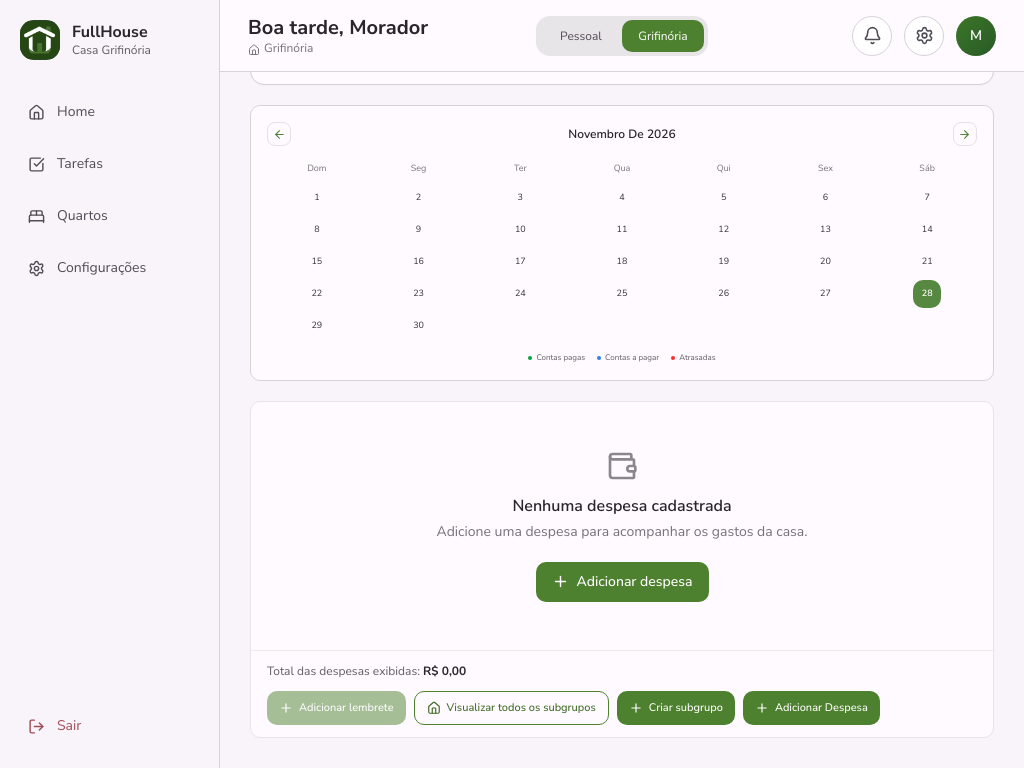
Test: FinancePage expense CRUD › creates a subgroup from active residents and updates the expense options immediately
This screenshot has width=1024, height=768.
(page scrolled)
Expected: the heading "Nenhuma despesa cadastrada" is shown, left=512, top=494, right=732, bottom=516
Click the button "Criar subgrupo". click: (676, 708)
box: left=617, top=690, right=735, bottom=725
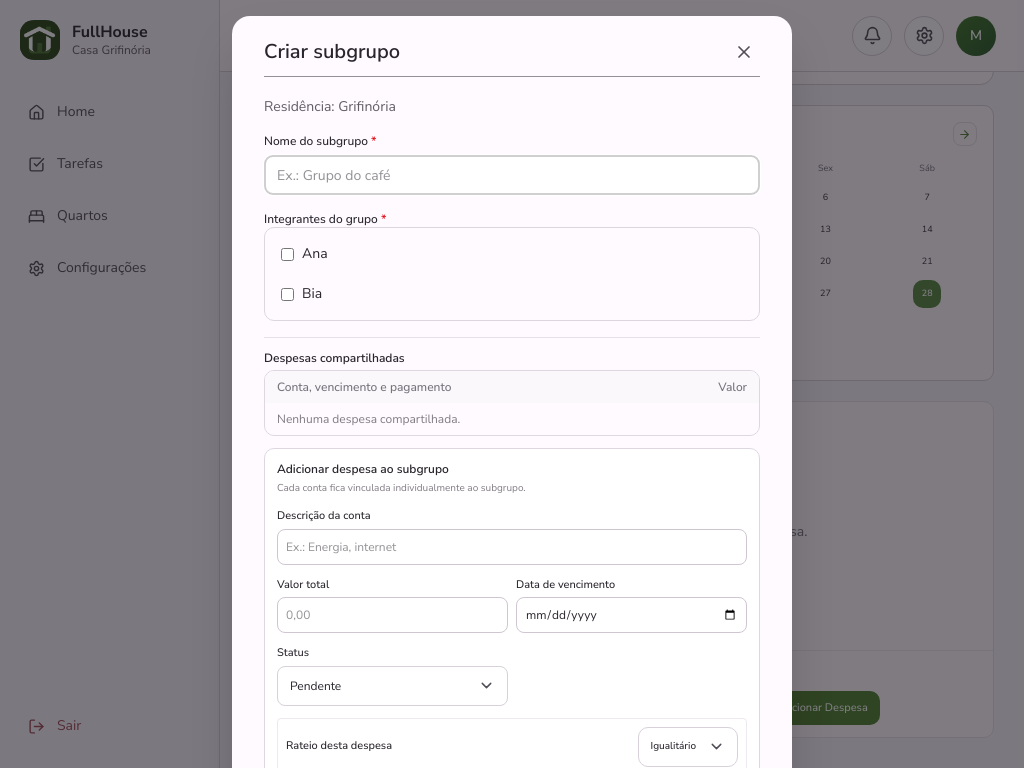
Type " Café " into the field labelled "Nome do subgrupo *". click: (512, 175)
box: left=264, top=155, right=760, bottom=195
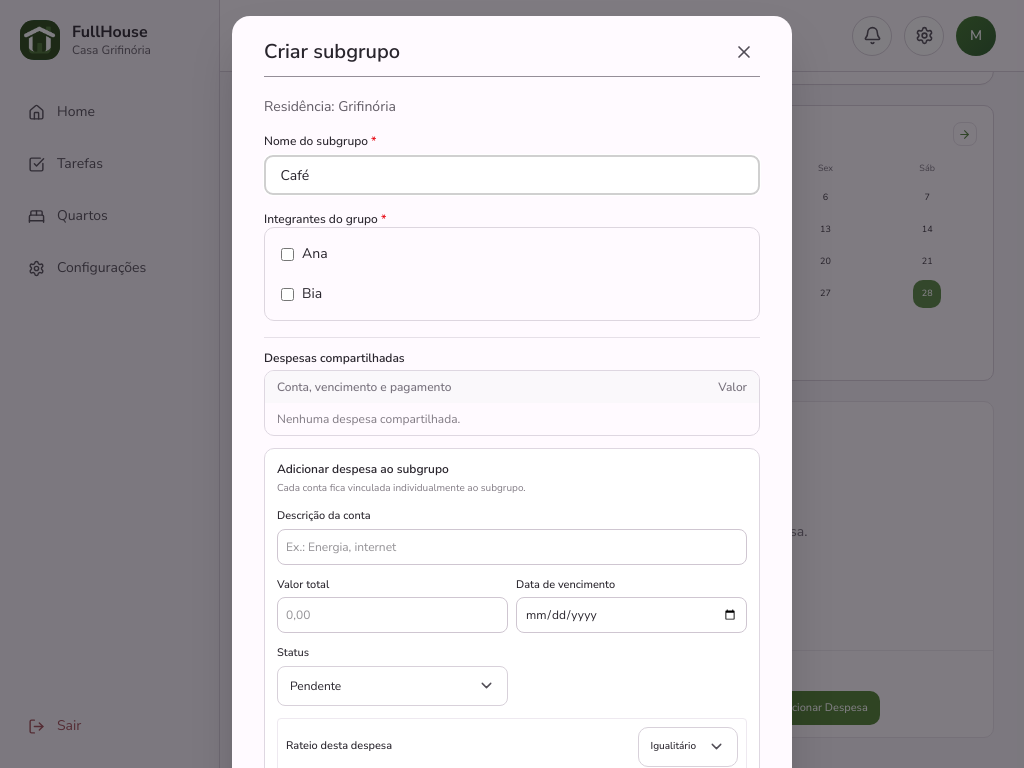
Click the checkbox labelled "Ana". click: (288, 254)
box: left=281, top=248, right=294, bottom=260
(page scrolled)
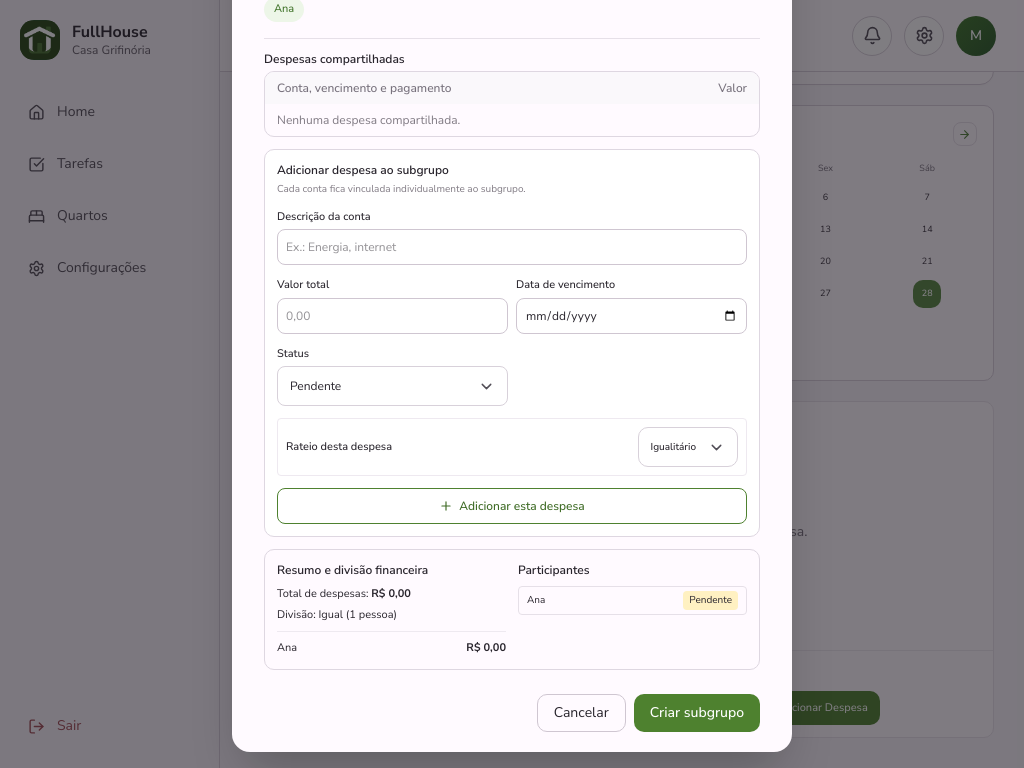
Click the button "Criar subgrupo". click: (697, 712)
box: left=634, top=694, right=760, bottom=732
(page scrolled)
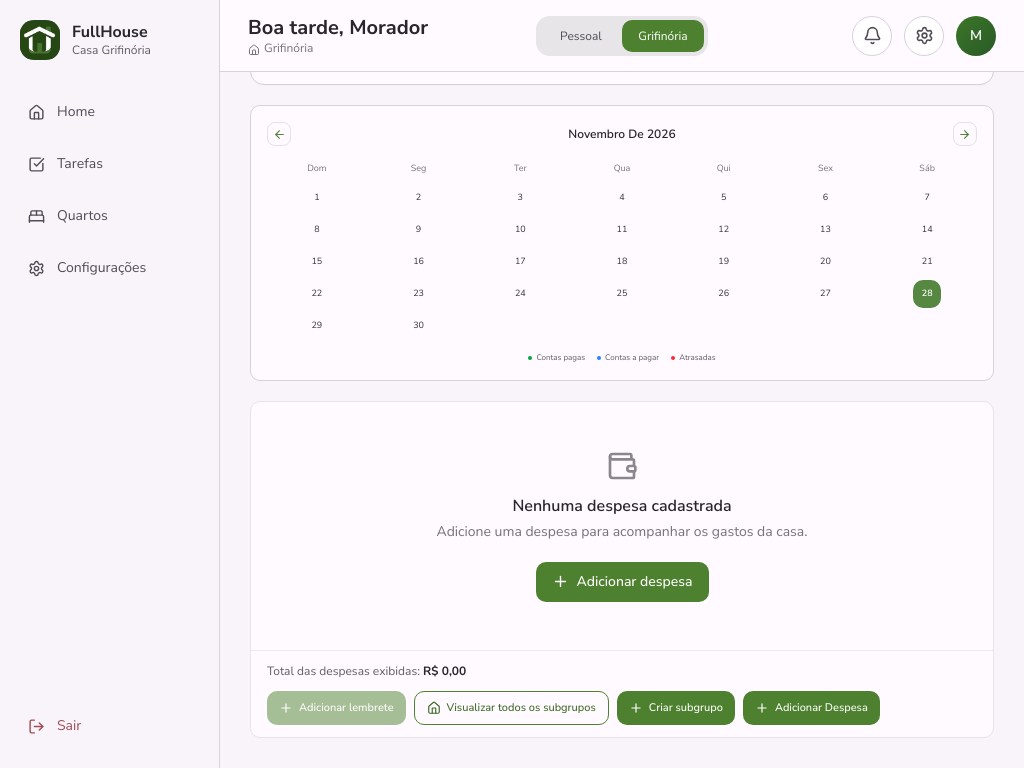
Click the button "Adicionar despesa". click: (622, 582)
box: left=536, top=562, right=708, bottom=602
(page scrolled)
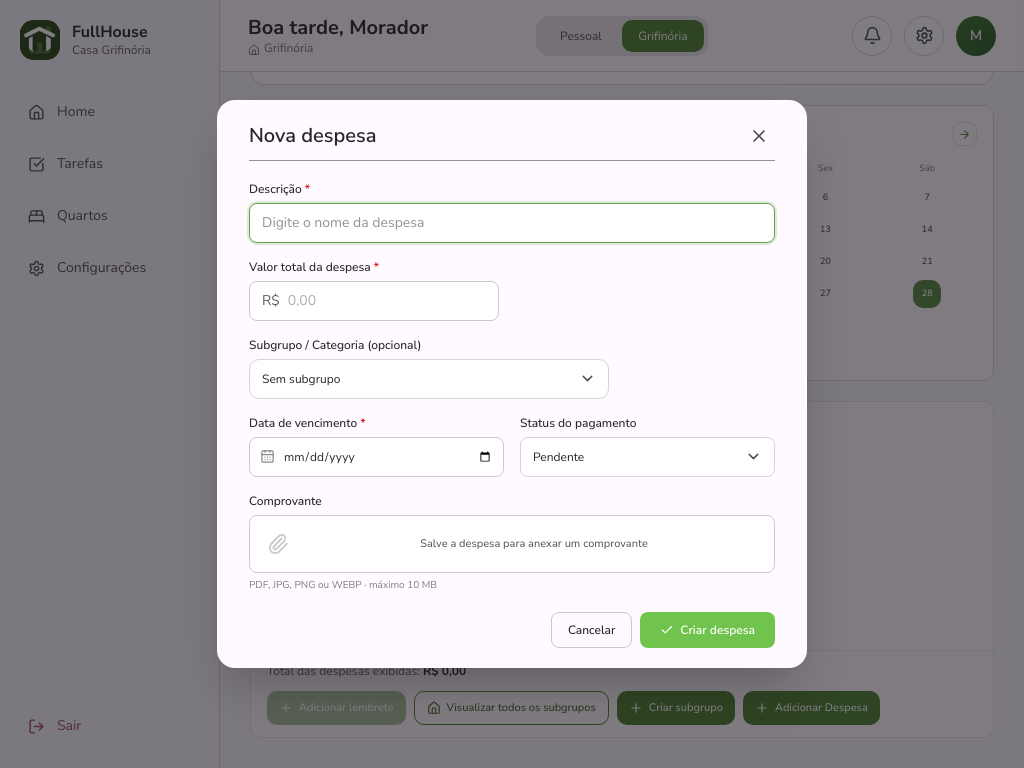
Click the dropdown named "Subgrupo / Categoria (opcional)". click: (301, 379)
box: left=249, top=359, right=609, bottom=399
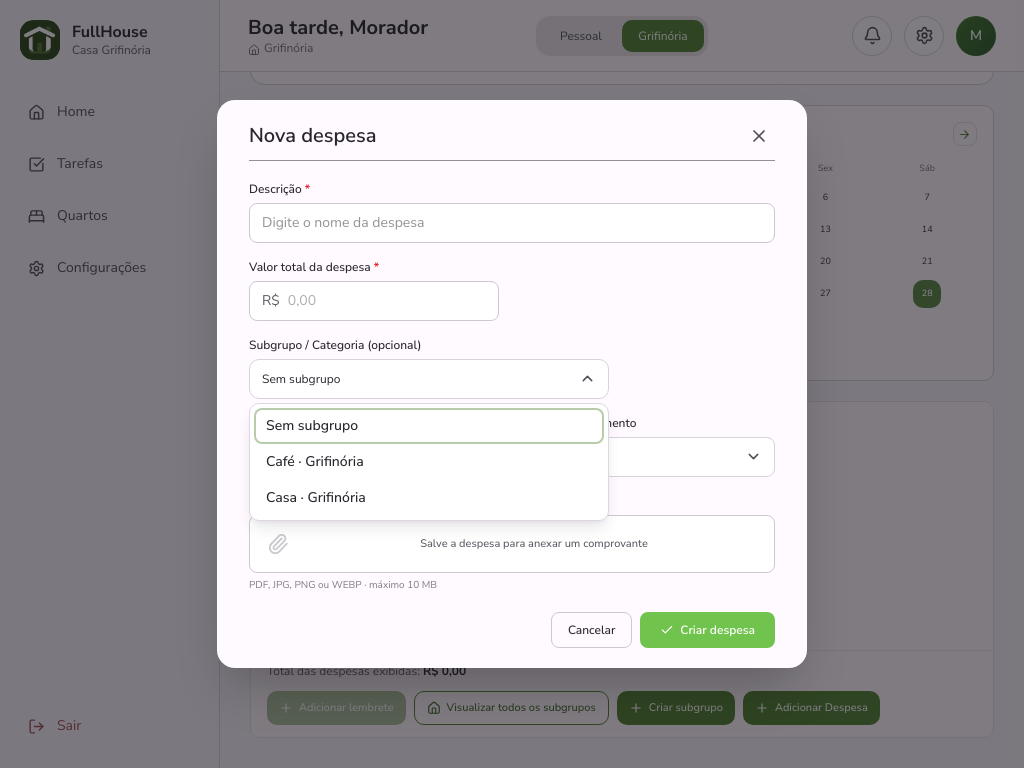
Expected: the option "Café · Grifinória" is shown, left=254, top=444, right=604, bottom=480
